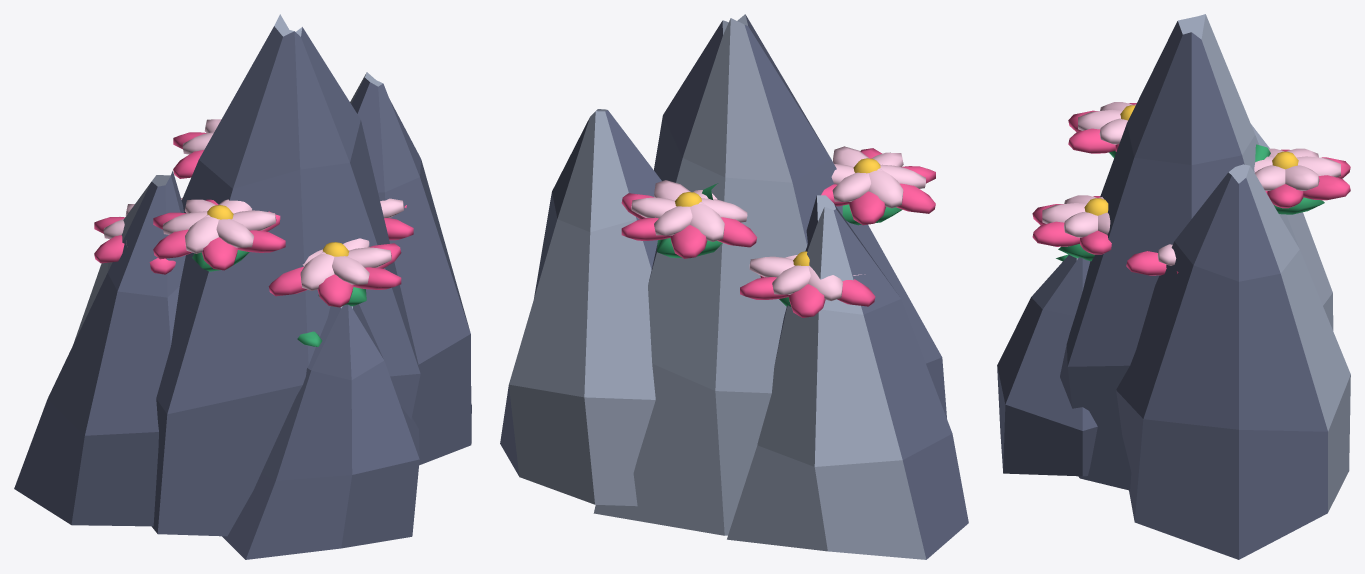
The model's file is skill-art.glb.
3 views of the same model, side by side, from view 1: azimuth 30°, elevation 25°; view 2: azimuth 150°, elevation 25°; view 3: azimuth 270°, elevation 25° (orthographic). The views are drawn at different scales.
Visible parts, largest first — view 1: skill_mountain, skill_tree; view 2: skill_mountain, skill_tree; view 3: skill_mountain, skill_tree.
Part boxes in pixels (x1=…): skill_mountain: x1=14, y1=14, x2=471, y2=559; skill_tree: x1=94, y1=119, x2=413, y2=307; skill_mountain: x1=500, y1=14, x2=968, y2=559; skill_tree: x1=621, y1=146, x2=935, y2=317; skill_mountain: x1=997, y1=14, x2=1350, y2=559; skill_tree: x1=1032, y1=102, x2=1350, y2=275.
Size of the model in its own units: 2.41 by 2.68 by 1.72.
